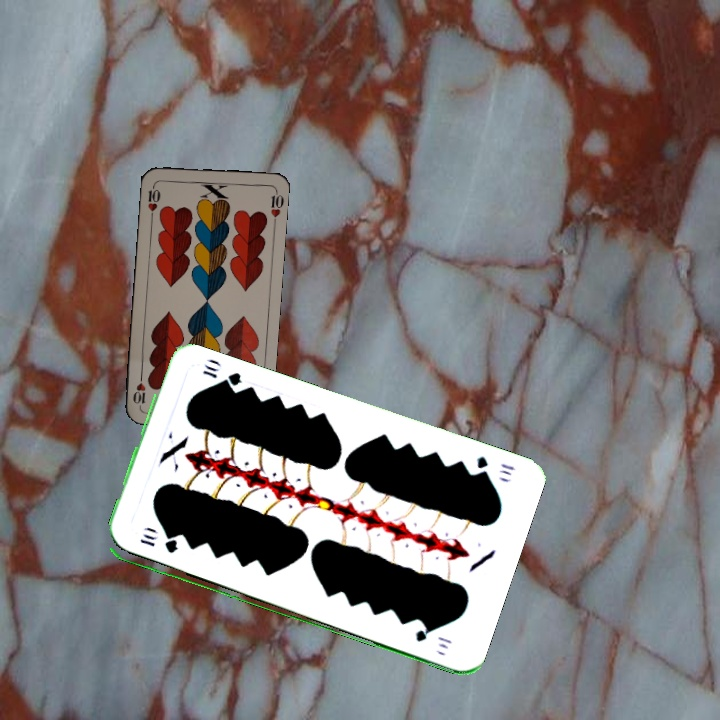G10: (472, 452, 517, 480), (136, 535, 181, 556)
H10: (144, 179, 163, 220)
